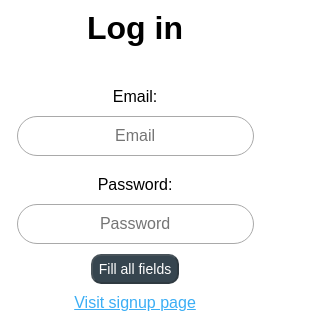
LoginPage › enables button when inputs are filled
In the field labelled "Email:": (135, 136) [16, 116, 254, 156], type "test@test.com"
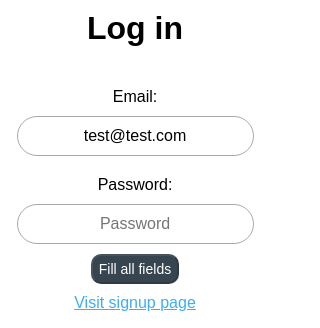
In the password field labelled "Password:": (135, 224) [16, 204, 254, 244], type "123456"
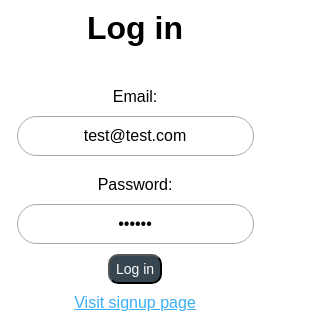
Now the button is enabled, box [108, 254, 162, 284]
